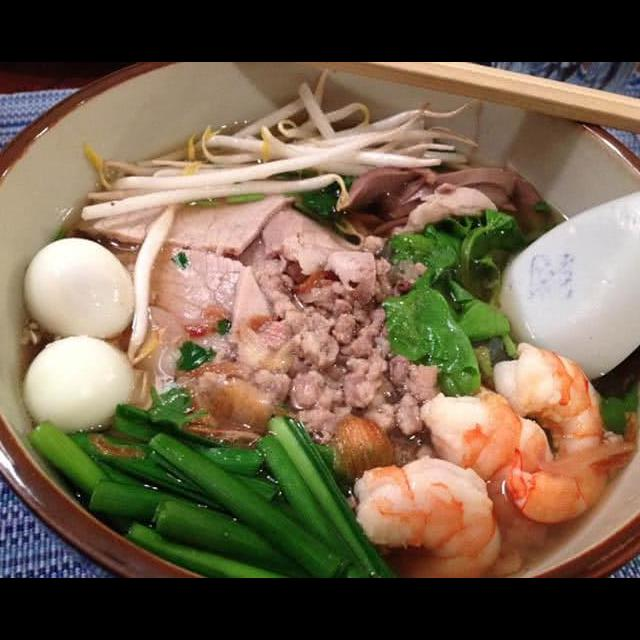thit bam: (223, 230, 451, 445)
thit heo: (96, 236, 292, 432), (68, 151, 312, 259), (256, 190, 380, 305)
tom: (488, 335, 620, 527), (413, 380, 558, 554), (346, 450, 504, 578)
trung: (18, 233, 142, 343), (17, 328, 138, 440)
